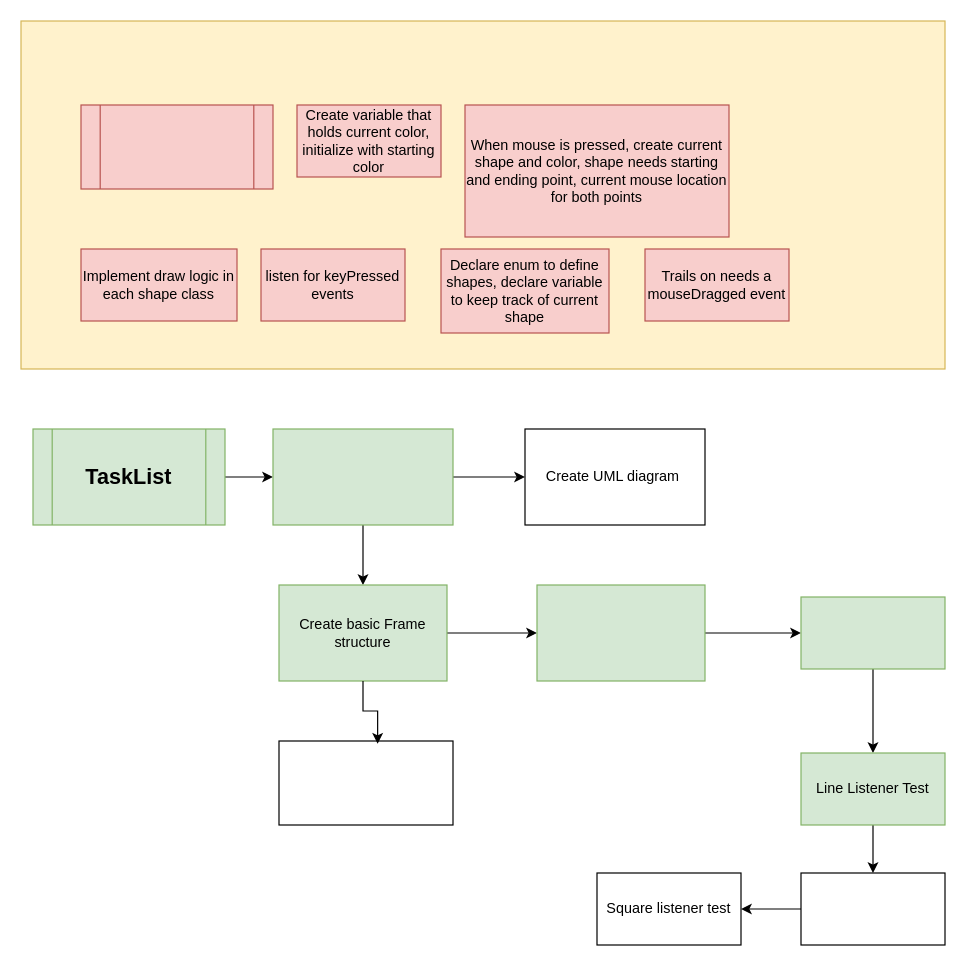
The diagram is 966 pixels wide and 966 high, and some of its shapes have lost their labels. The shapes that lost their labels are listed below. From the top down, each one's centre as x and y in pixels, then its label:
the point at 176,146: Requirements
the point at 362,476: Write Problem in own words, create rough sketch of game plan
the point at 620,632: Line draft
the point at 872,632: Line Listener draft
the point at 365,782: Create menu items
the point at 872,908: Square draft
